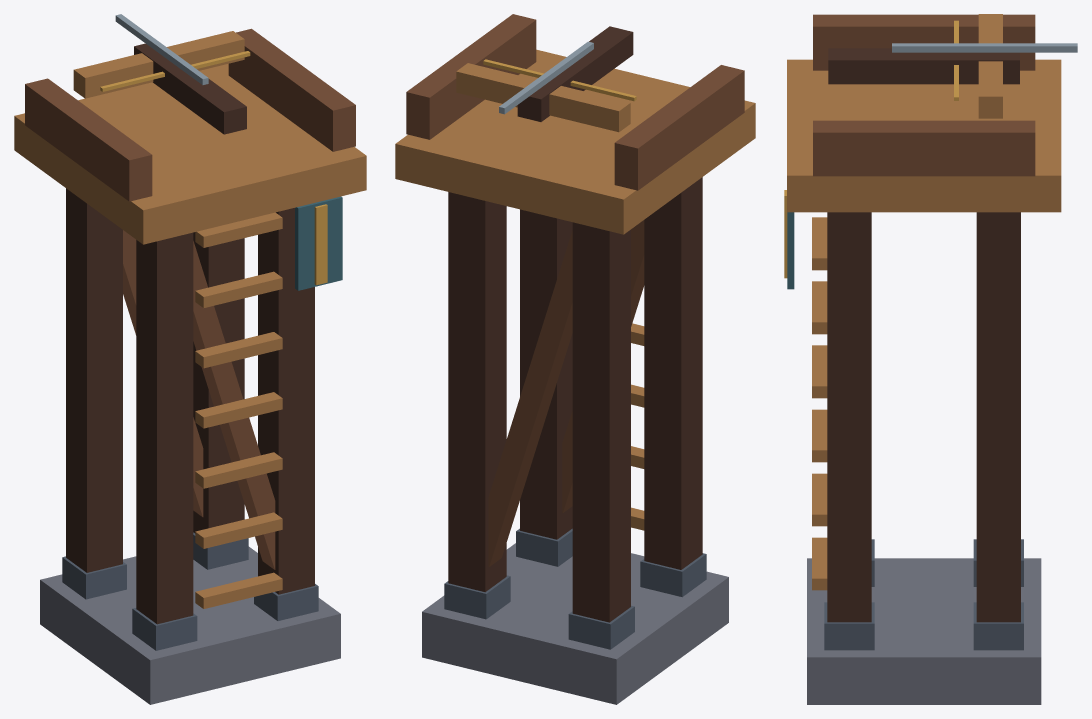
The model's file is archer_tower.gltf.
3 renders of one model, left to right at view 1: azimuth 30°, elevation 25°; view 2: azimuth 150°, elevation 25°; view 3: azimuth 270°, elevation 25°, orthographic. The views are drawn at different scales.
Parts seen in each view (by area): view 1: Body, BowPivot; view 2: Body, BowPivot; view 3: Body, BowPivot.
Boxes of the visible parts, bbox=[...] form: Body: bbox=[14, 28, 366, 704]; BowPivot: bbox=[73, 14, 250, 134]; Body: bbox=[395, 14, 755, 704]; BowPivot: bbox=[456, 26, 636, 132]; Body: bbox=[784, 14, 1061, 704]; BowPivot: bbox=[828, 14, 1077, 118].
Size of the model in its own units: 1.38 by 3.34 by 1.45.
